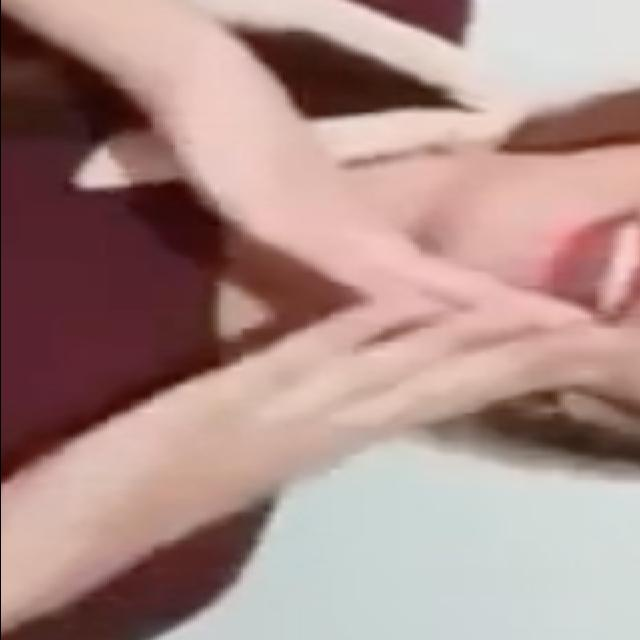casa: (71, 48, 637, 583)
